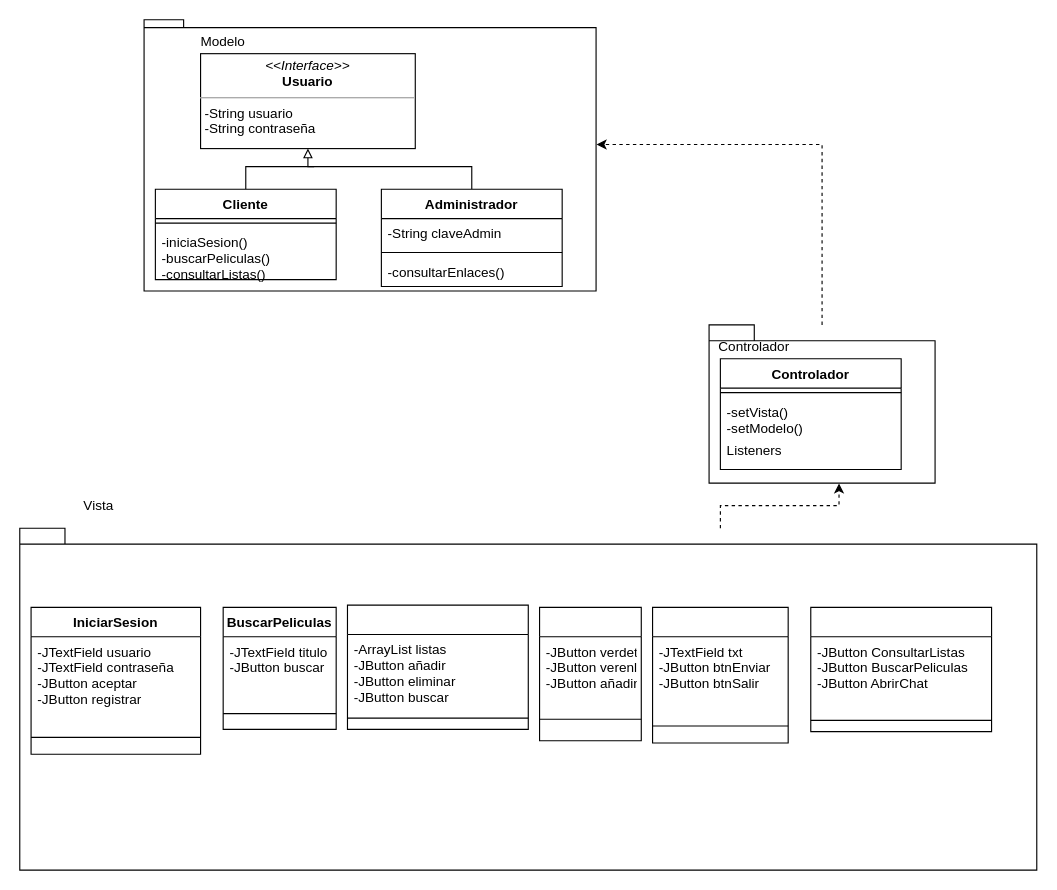
This 1057x890 diagram has some shape labels left out. The shapes that lost their labels are listed below. From the top down, each one's box as (x1, y1, x2, y2) in pixels, then its label:
(346, 604, 528, 729): ConsultarListas
(538, 606, 641, 741): Película
(651, 606, 788, 743): Chat
(810, 606, 992, 732): VistaMenu
